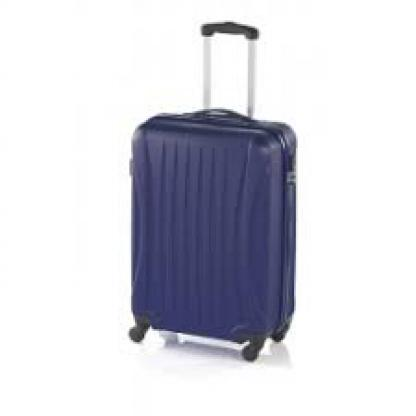maleta: (111, 107, 309, 370)
